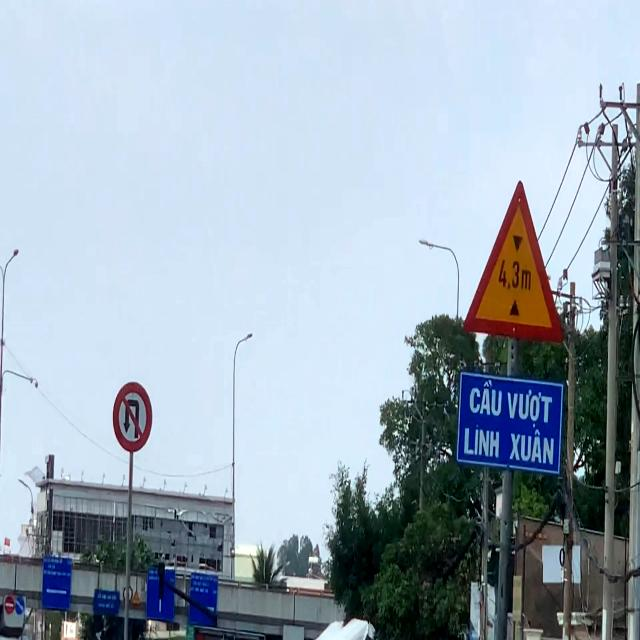P.102: (5, 596, 14, 614)
P.124a: (112, 381, 153, 453)
R.302a: (15, 596, 25, 614)
S.509a: (463, 179, 565, 345)
